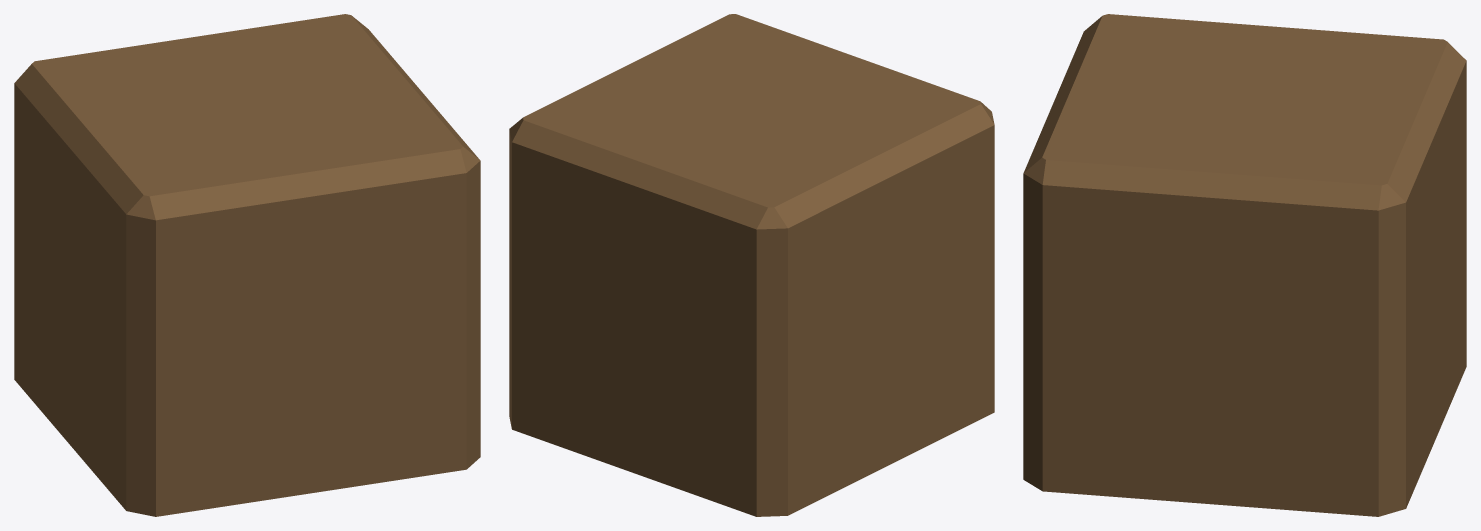
Rendered from crate.glb.
The picture shows the model from 3 angles, left to right: view 1: azimuth 30°, elevation 25°; view 2: azimuth 150°, elevation 25°; view 3: azimuth 270°, elevation 25°; orthographic projection. The views are drawn at different scales.
Parts seen in each view (by area): view 1: Crate; view 2: Crate; view 3: Crate.
Boxes of the visible parts, bbox=[...] form: Crate: bbox=[14, 14, 480, 516]; Crate: bbox=[509, 14, 994, 516]; Crate: bbox=[1023, 14, 1466, 516].
Bounding box in the file's own units: 0.1117 × 0.09 × 0.1117.
